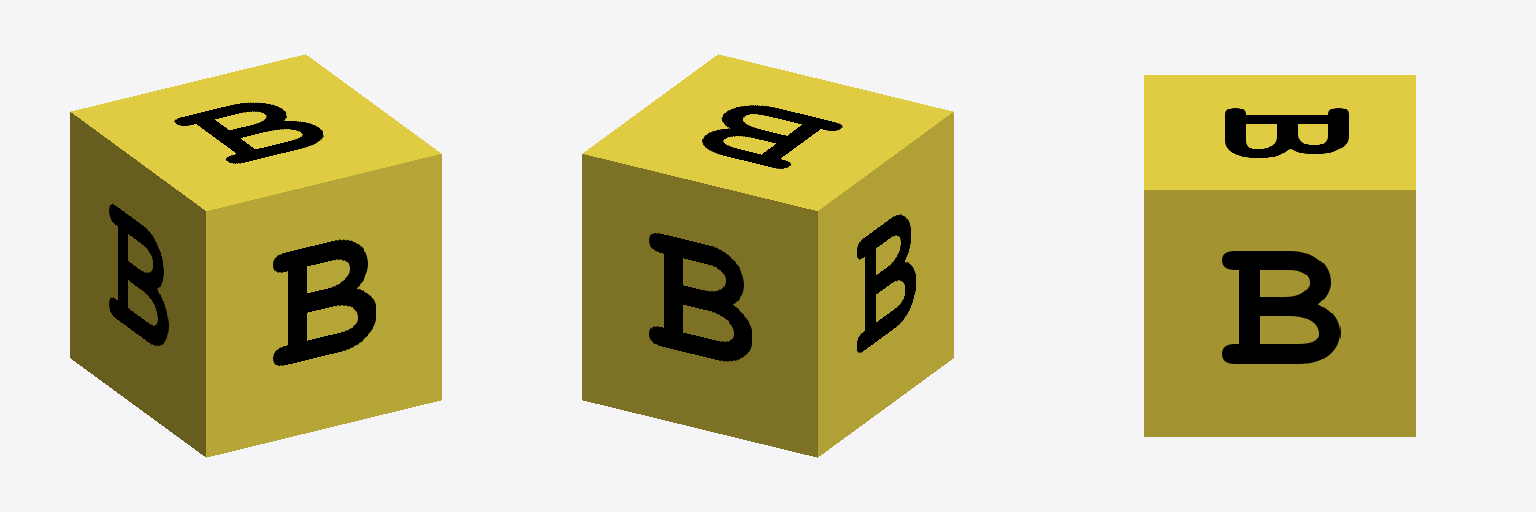
The picture shows the model from 3 angles: view 1: azimuth 30°, elevation 25°; view 2: azimuth 150°, elevation 25°; view 3: azimuth 270°, elevation 25°; orthographic projection.
Visible parts, largest first — view 1: cube; view 2: cube; view 3: cube.
Part boxes in pixels (x1,y1,x2,y2): cube: (70,54,441,457); cube: (582,54,953,457); cube: (1144,75,1415,436).
Bounding box in the file's own units: 1 × 1 × 1.
1 materials, 1 textured.